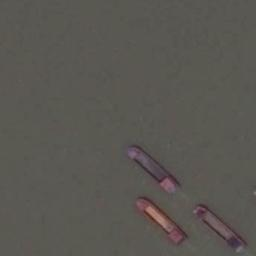boat: (126, 144, 180, 194), (192, 202, 245, 252), (134, 196, 187, 244)
